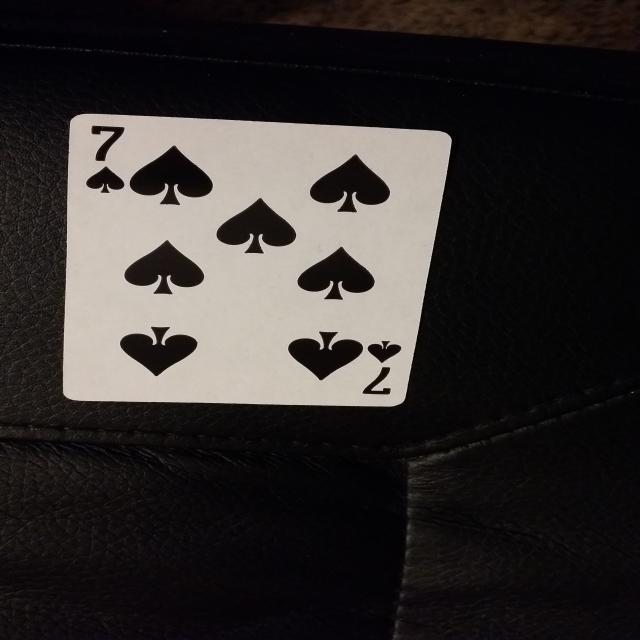7s: (76, 119, 134, 197), (359, 336, 404, 404)
